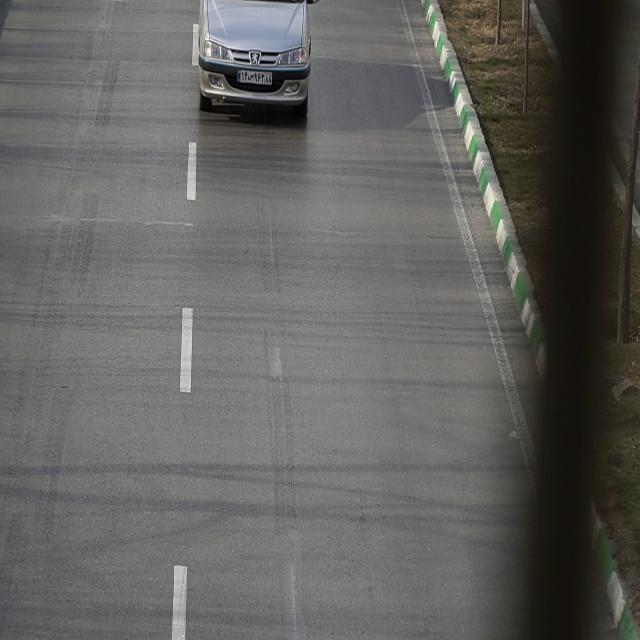car: (199, 0, 312, 106)
